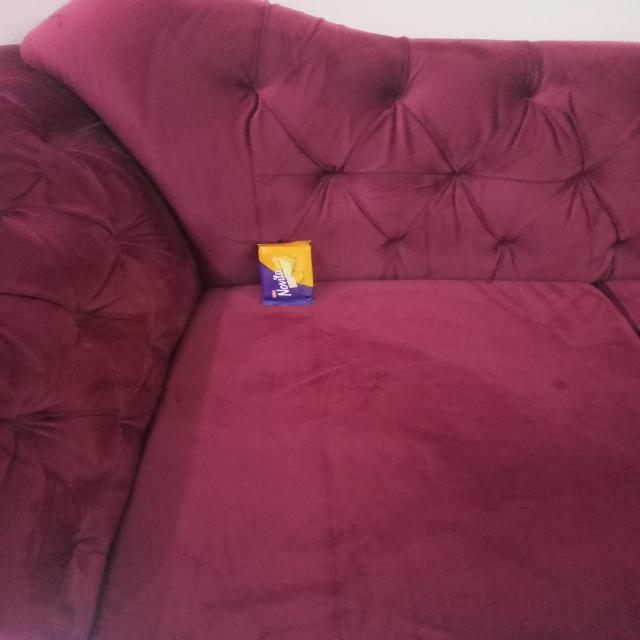Plastic: (260, 240, 320, 305)
